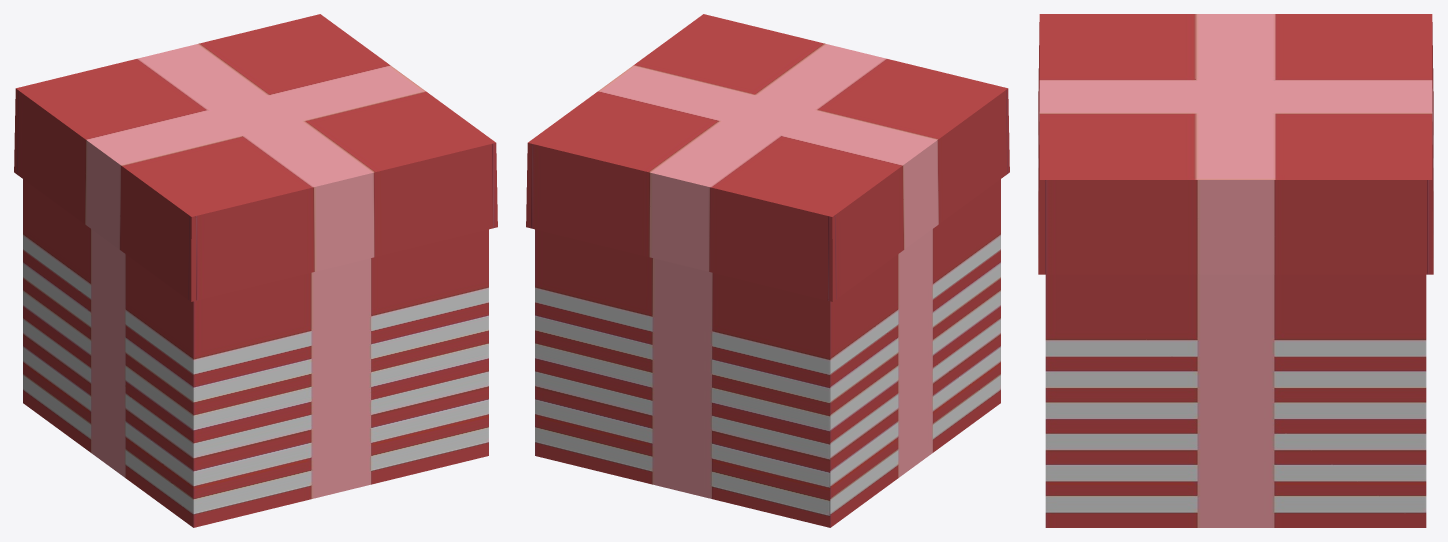
3 renders of one model, left to right at view 1: azimuth 30°, elevation 25°; view 2: azimuth 150°, elevation 25°; view 3: azimuth 270°, elevation 25°, orthographic. The views are drawn at different scales.
Parts seen in each view (by area): view 1: Cube.012; view 2: Cube.012; view 3: Cube.012.
Part boxes in pixels (bbox=[...]): Cube.012: bbox=[14, 14, 497, 527]; Cube.012: bbox=[526, 14, 1009, 527]; Cube.012: bbox=[1038, 14, 1433, 527].
Size of the model in its own units: 9623 by 9411 by 9623.
Materials: 5 (3 with a texture image).
